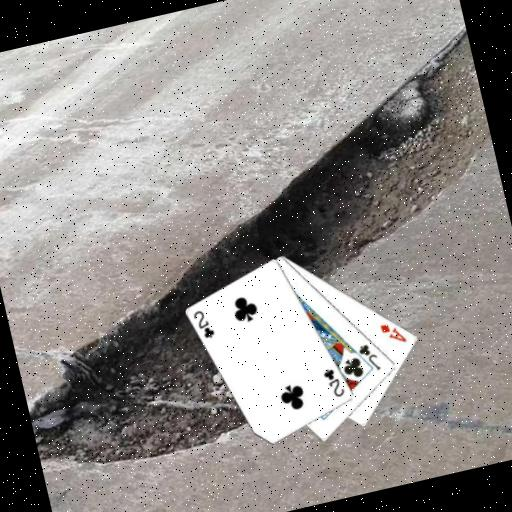2C: (319, 363, 348, 401), (190, 305, 218, 343)
AD: (377, 317, 409, 349)
JC: (354, 339, 383, 376)
